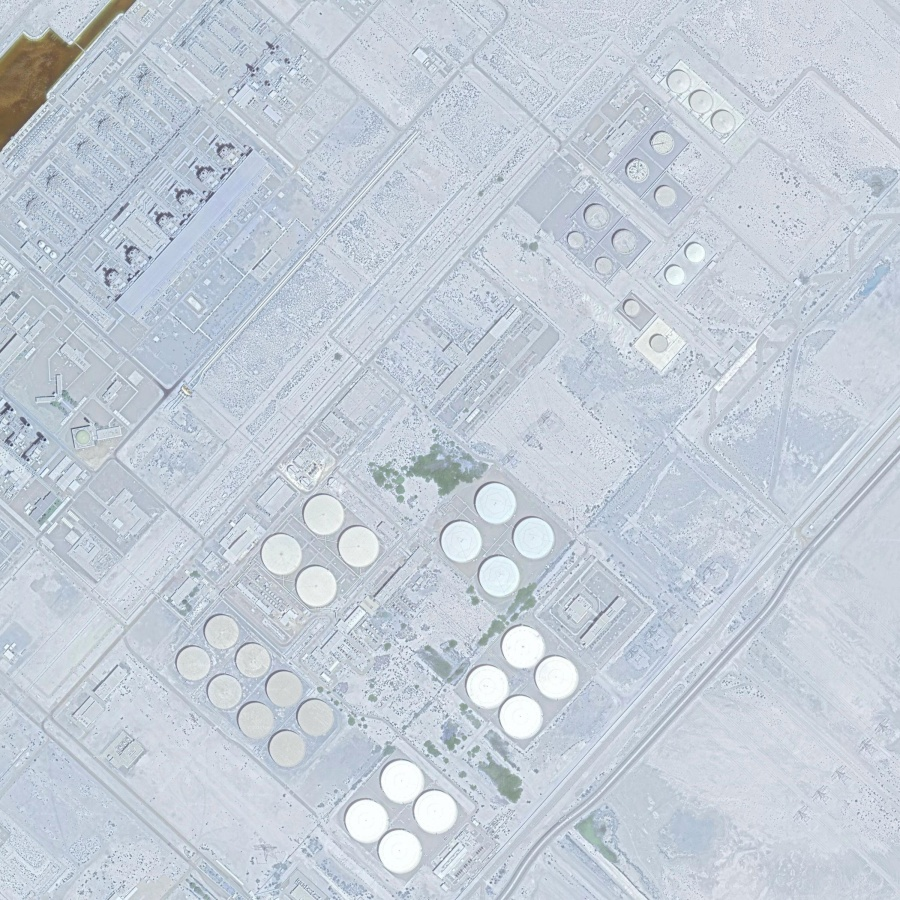PowerPlant: (166, 433, 616, 893), (555, 63, 767, 360)
